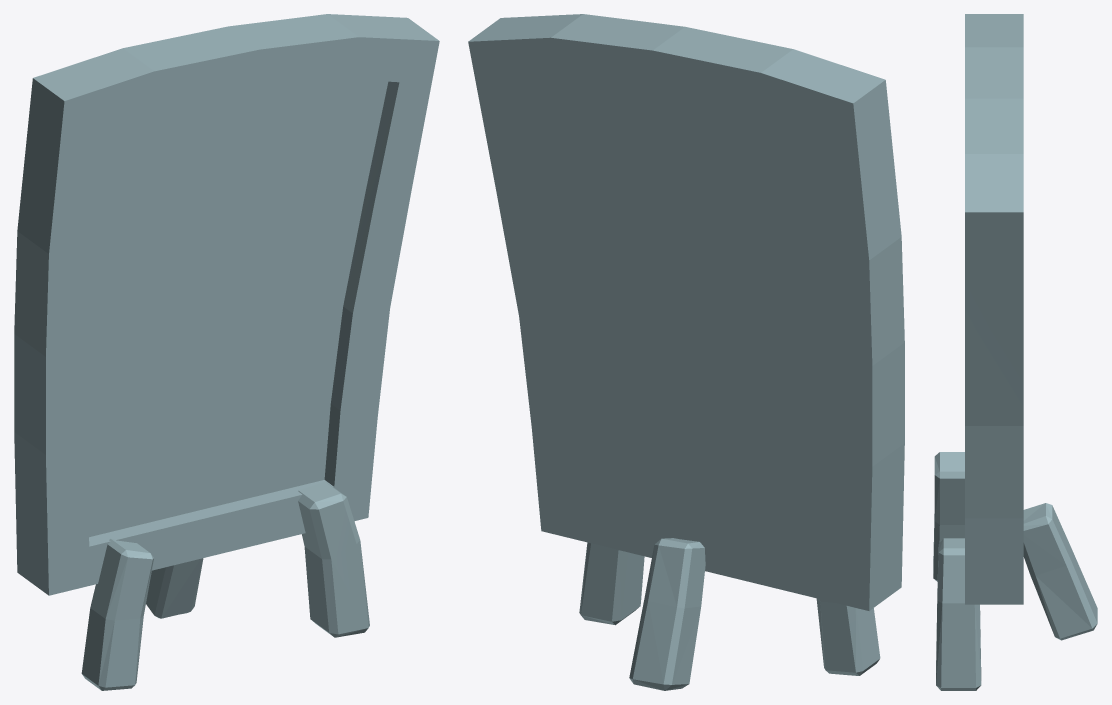
File: Frame01.fbx
3 views of the same model, side by side, from view 1: azimuth 30°, elevation 25°; view 2: azimuth 150°, elevation 25°; view 3: azimuth 270°, elevation 25° (orthographic). The views are drawn at different scales.
Visible parts, largest first — view 1: Cube.014_0; view 2: Cube.014_0; view 3: Cube.014_0.
Boxes of the visible parts, x1,y1,x2,y2 form: Cube.014_0: [14, 14, 439, 690]; Cube.014_0: [468, 14, 904, 690]; Cube.014_0: [933, 14, 1097, 690].
Bounding box in the file's own units: 24.58 × 35.82 × 9.6.
